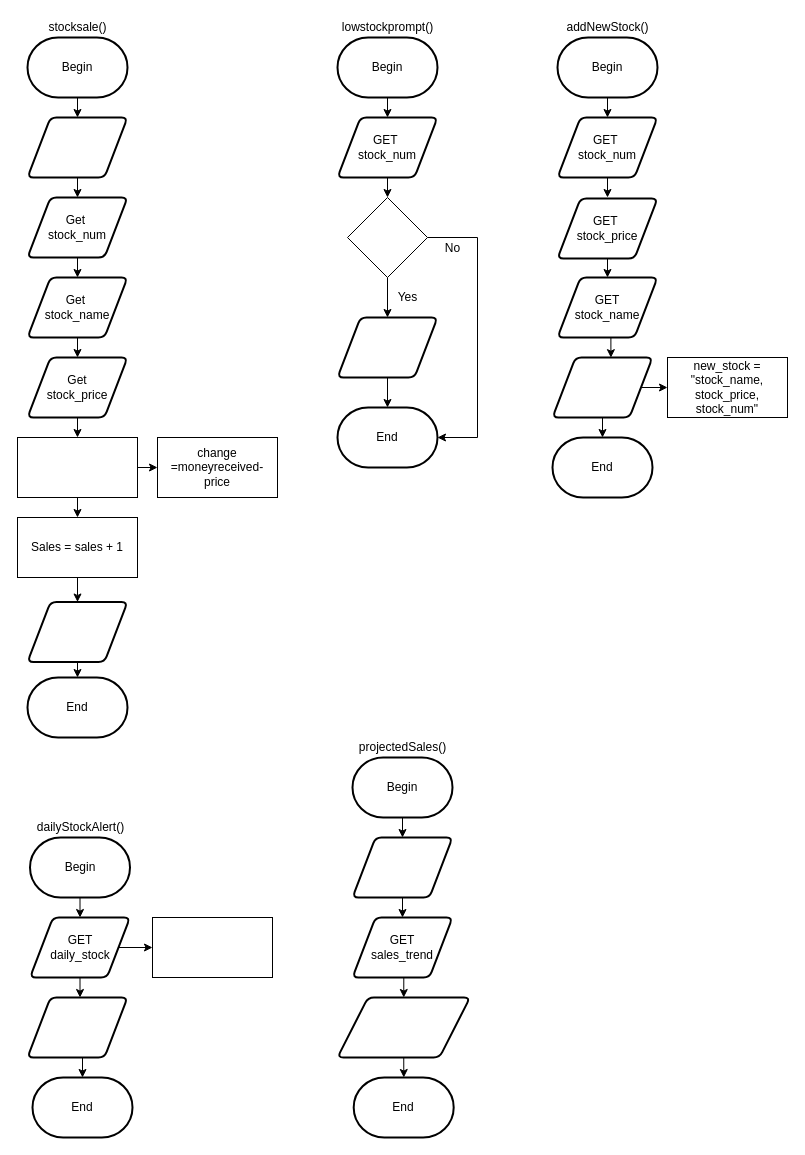
Image size: 805x1155. Some labels were removed from this diagram. The shapes that lost their labels are listed below. From the top down, each one's box as (x1, y1, x2, y2) in pixels, then its label:
(26, 116, 128, 178): sales = 0
(346, 196, 428, 278): stock_num < 50
(336, 316, 438, 378): Print "`Stock is low, order new stock!"
(551, 356, 653, 418): Print new_stock
(16, 436, 138, 498): Calculate change
(26, 600, 128, 662): Print receipt
(351, 836, 453, 898): GET sales
(152, 916, 272, 978): daily_stock = stock_num = sales
(26, 996, 128, 1058): PRINT stock_num
(336, 996, 470, 1058): PRINT projected_sales
